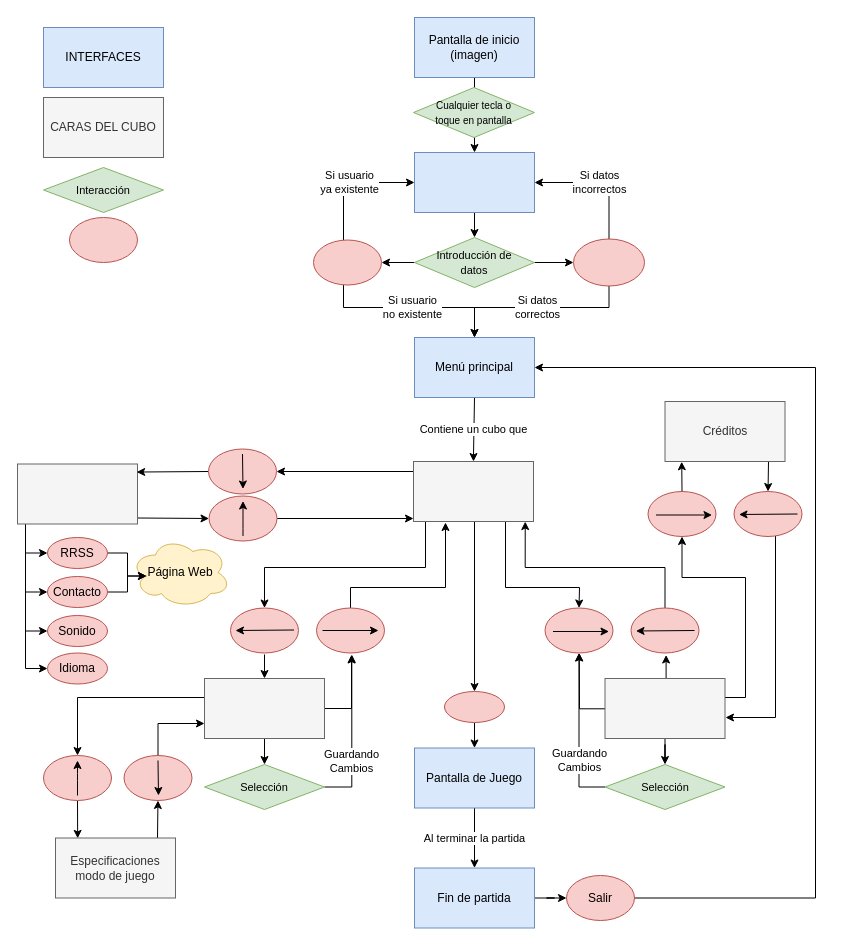
Some shapes in this 841 by 946 pixel diagram are drawn without their labels. Here are the shapes that lost their labels. From the top down, the centre of each, then its label:
At [474,182]: "Inicio de Sesión".
At [103,239]: "Botón".
At [347,262]: "Crear Cuenta".
At [608,262]: "Iniciar Sesión".
At [77,493]: "Opciones (desplegable)".
At [473,491]: "Cara Principal".
At [264,708]: "Selector modo de juego".
At [474,706]: "Jugar".
At [664,708]: "Selector de Personaje".
